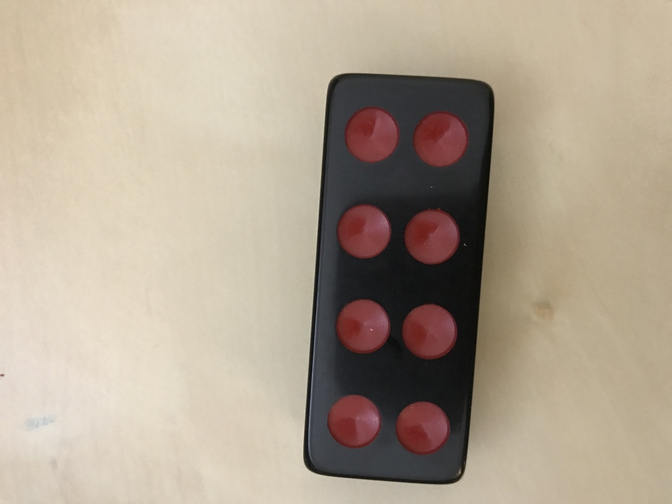man: (304, 72, 494, 484)
